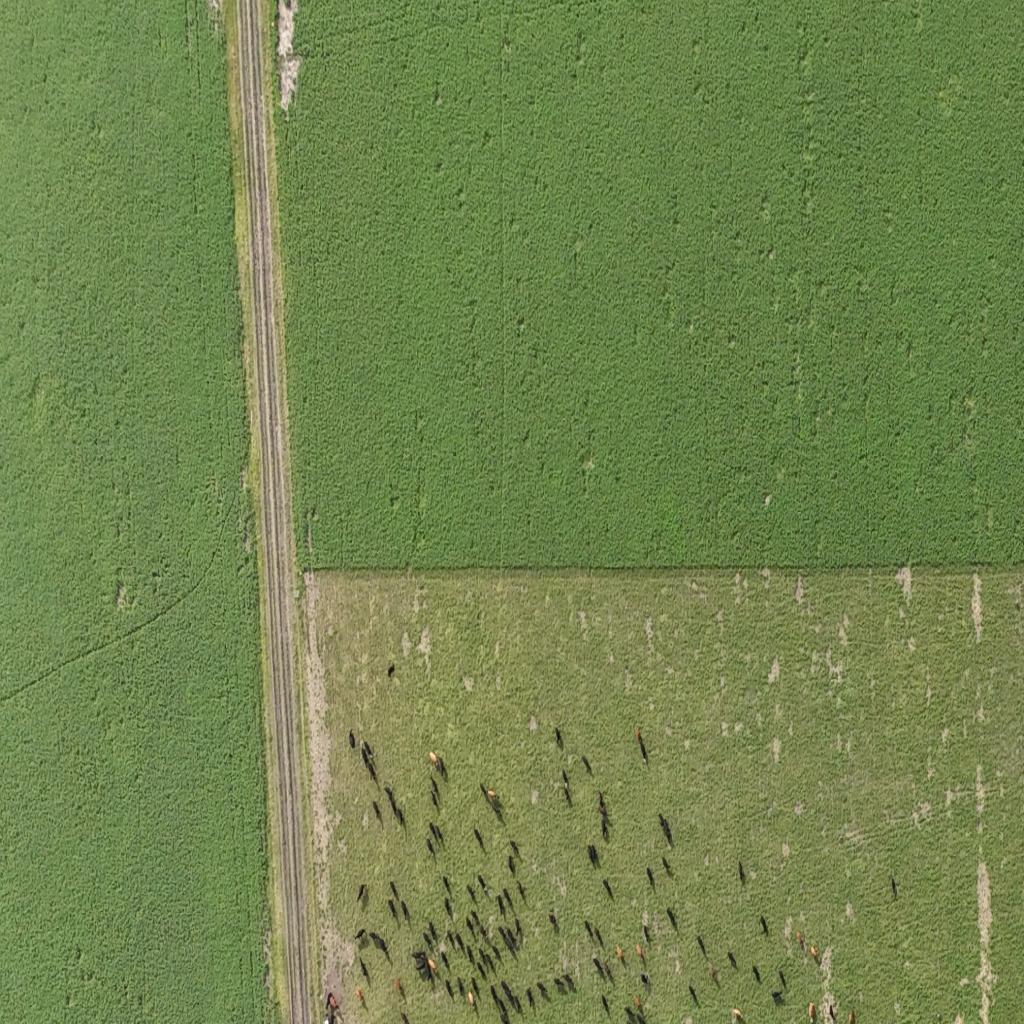cow: (423, 932, 436, 960), (601, 875, 615, 899), (429, 769, 442, 794), (364, 737, 377, 761), (487, 799, 504, 817), (560, 973, 575, 993), (357, 989, 371, 1010), (578, 754, 593, 773), (396, 977, 408, 1000), (378, 939, 391, 959), (353, 928, 369, 944), (437, 751, 446, 779), (410, 947, 428, 961), (625, 1006, 639, 1024), (368, 758, 378, 783), (639, 743, 652, 762), (593, 926, 606, 945), (423, 964, 433, 988), (639, 743, 649, 767), (584, 920, 596, 940), (332, 1004, 344, 1024), (536, 980, 549, 998), (442, 873, 453, 894), (386, 661, 398, 680), (387, 899, 399, 918), (470, 979, 482, 998), (357, 880, 367, 902), (495, 894, 506, 914), (593, 957, 604, 977), (666, 906, 677, 926), (634, 994, 645, 1014), (472, 828, 484, 846), (562, 783, 574, 801), (598, 803, 610, 821), (400, 898, 409, 922), (367, 928, 382, 942), (426, 959, 440, 974), (516, 880, 527, 899), (502, 887, 513, 906), (515, 991, 524, 1014), (358, 957, 368, 977), (427, 838, 437, 858), (444, 977, 454, 997), (600, 993, 611, 1011), (493, 998, 507, 1012), (586, 842, 594, 866), (400, 1008, 412, 1024), (821, 1003, 831, 1022), (486, 787, 500, 800), (731, 1008, 744, 1022), (395, 809, 405, 827), (389, 880, 399, 898), (548, 910, 558, 928), (429, 920, 438, 940), (440, 949, 450, 967), (326, 990, 335, 1010), (455, 930, 464, 950), (760, 915, 770, 933), (708, 962, 718, 980), (480, 782, 490, 800), (554, 724, 562, 746), (422, 930, 433, 946), (457, 974, 465, 996), (727, 948, 738, 964), (636, 943, 644, 965), (428, 820, 438, 837), (348, 728, 356, 749), (508, 841, 522, 853), (526, 987, 534, 1008), (751, 965, 762, 980), (583, 918, 592, 936), (778, 969, 787, 987), (600, 818, 608, 838), (478, 870, 486, 890), (465, 884, 475, 900), (476, 961, 486, 977), (623, 1004, 635, 1017), (738, 861, 746, 880), (616, 943, 624, 962), (796, 930, 804, 949), (560, 768, 570, 783), (506, 927, 516, 942), (436, 821, 443, 842), (372, 798, 380, 816), (431, 789, 439, 807), (596, 788, 604, 806), (414, 960, 426, 972), (447, 930, 455, 948), (500, 978, 512, 990), (647, 867, 655, 885), (662, 855, 671, 871), (847, 1008, 856, 1024), (498, 1012, 511, 1023), (592, 842, 599, 862), (507, 856, 514, 876), (564, 970, 574, 984), (554, 977, 564, 991), (809, 1002, 816, 1022), (465, 948, 474, 963), (468, 989, 475, 1008), (445, 895, 451, 917), (464, 918, 475, 930), (484, 953, 494, 966), (641, 971, 651, 984), (637, 1010, 647, 1023), (465, 944, 473, 960), (828, 1004, 836, 1020), (362, 746, 368, 767), (492, 944, 501, 958), (468, 909, 479, 920), (890, 875, 896, 895), (490, 984, 498, 999), (505, 992, 515, 1004), (504, 938, 514, 950), (689, 985, 697, 1000), (514, 917, 521, 934), (479, 926, 488, 939), (428, 750, 436, 764), (387, 798, 396, 810), (771, 990, 783, 999), (810, 946, 819, 958), (635, 726, 641, 744), (657, 810, 664, 825), (497, 924, 504, 938), (479, 782, 487, 794), (384, 784, 392, 796), (478, 946, 484, 962), (644, 924, 650, 940), (698, 934, 704, 950), (635, 944, 642, 957), (666, 832, 672, 845), (663, 818, 669, 831)
